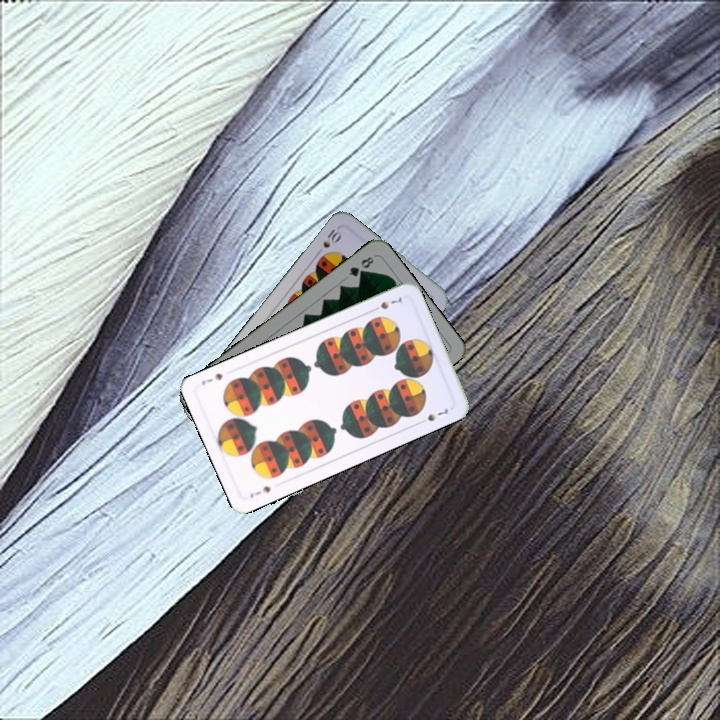G8: (344, 252, 377, 279)
S10: (313, 223, 344, 258)
S7: (367, 293, 404, 314), (246, 482, 273, 501)
